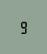nine: (19, 20, 26, 34)
